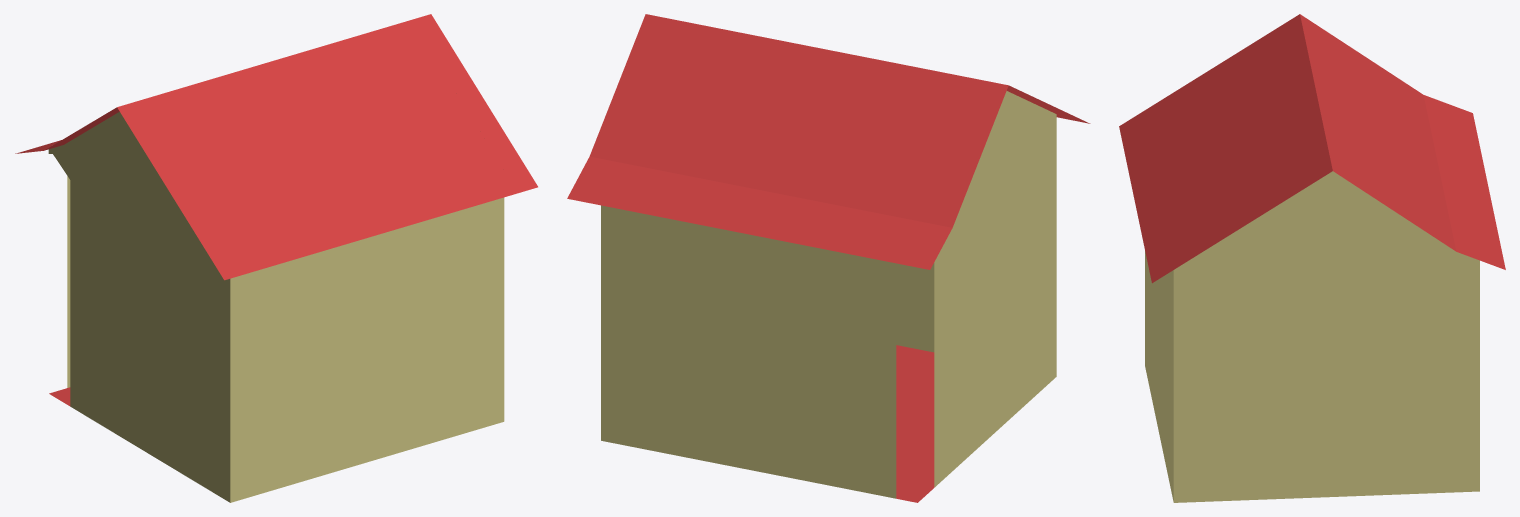
The picture shows the model from 3 angles, left to right: view 1: azimuth 30°, elevation 25°; view 2: azimuth 150°, elevation 25°; view 3: azimuth 270°, elevation 25°; orthographic projection. The views are drawn at different scales.
Size of the model in its own units: 12.63 by 12.12 by 11.62.
